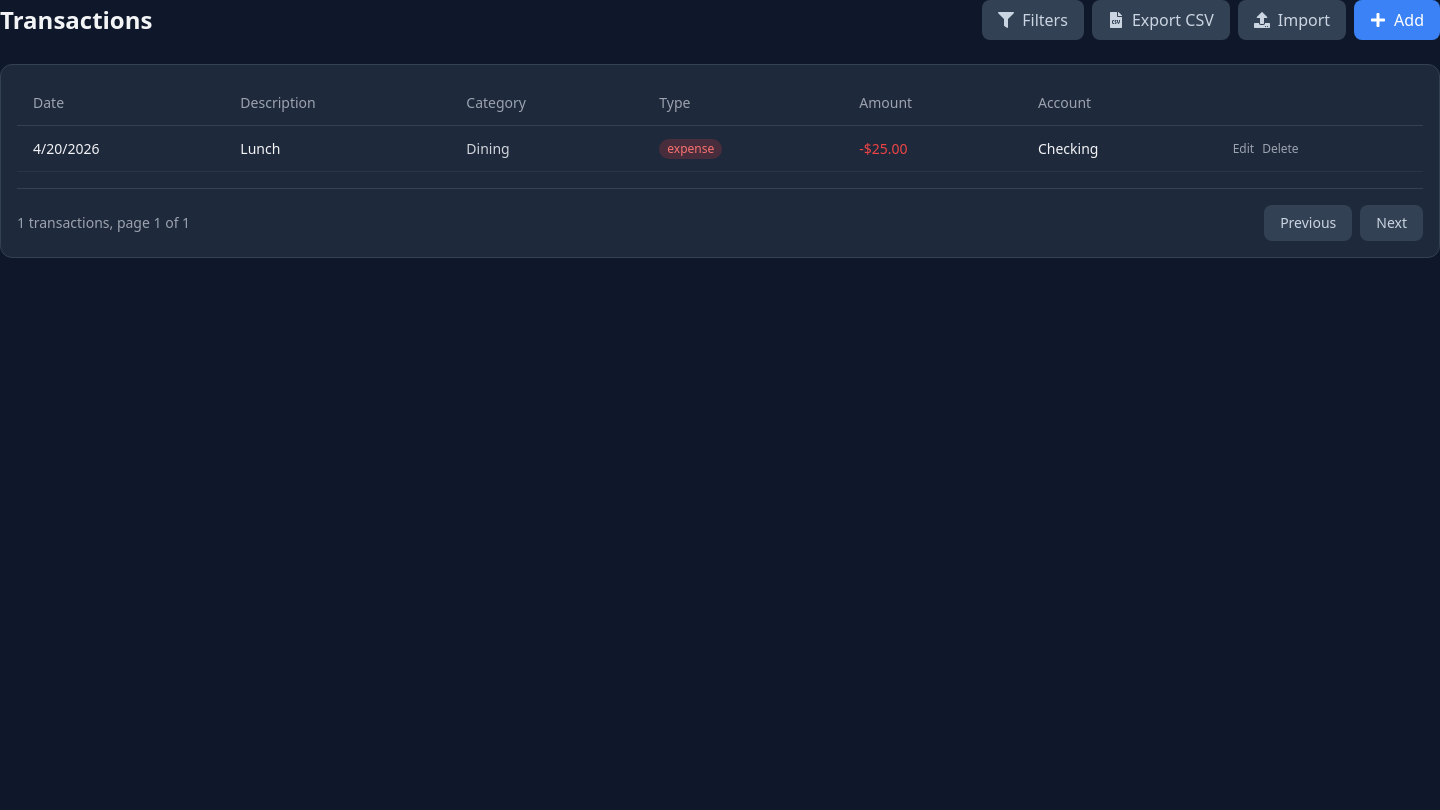
it: Transactions › closes modal on Cancel click
Click the button "Add": (1397, 20) [1354,0,1439,40]
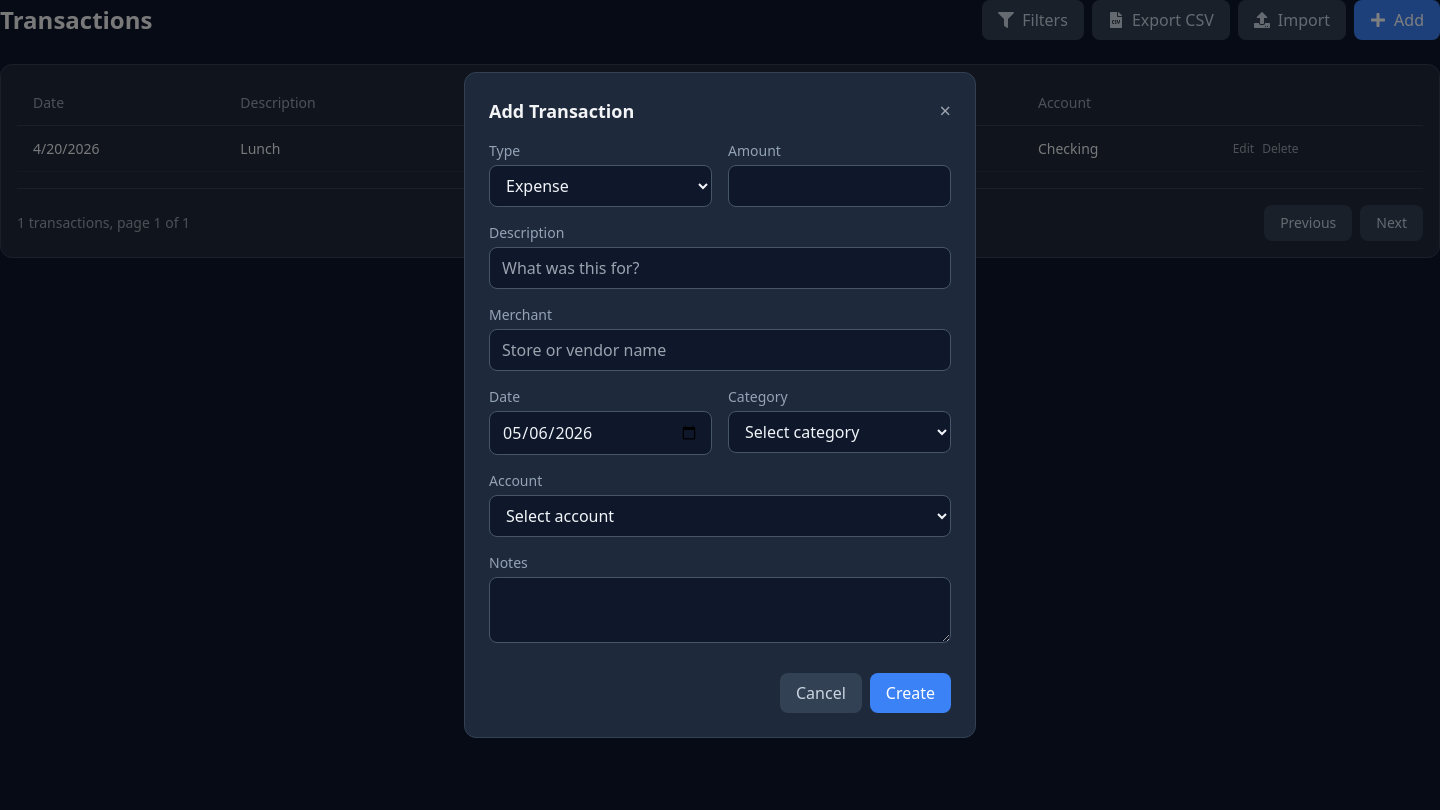
Now the button "Cancel" is shown
Click the button "Cancel": (821, 693) [780,673,862,713]
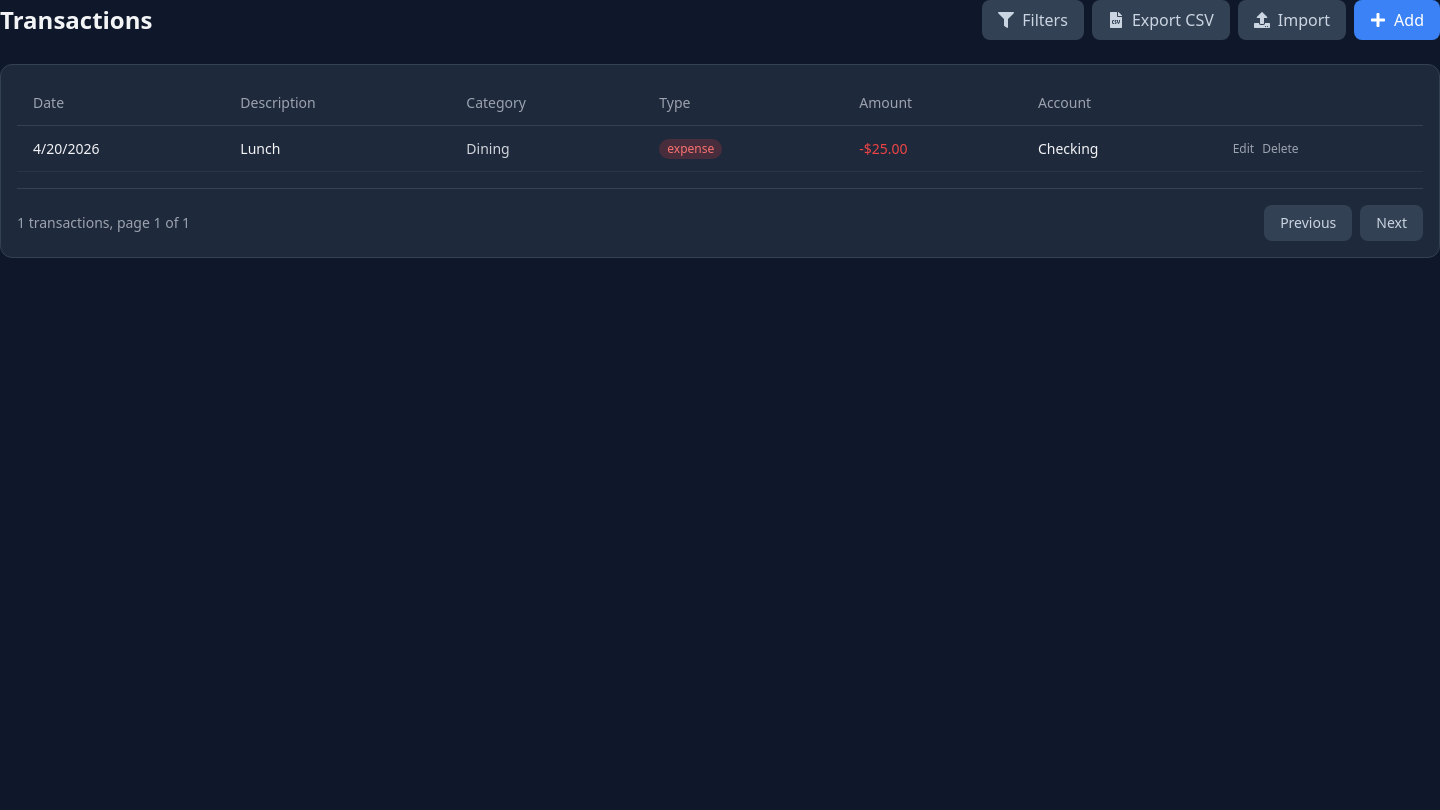
Now the heading "Add Transaction" is gone
